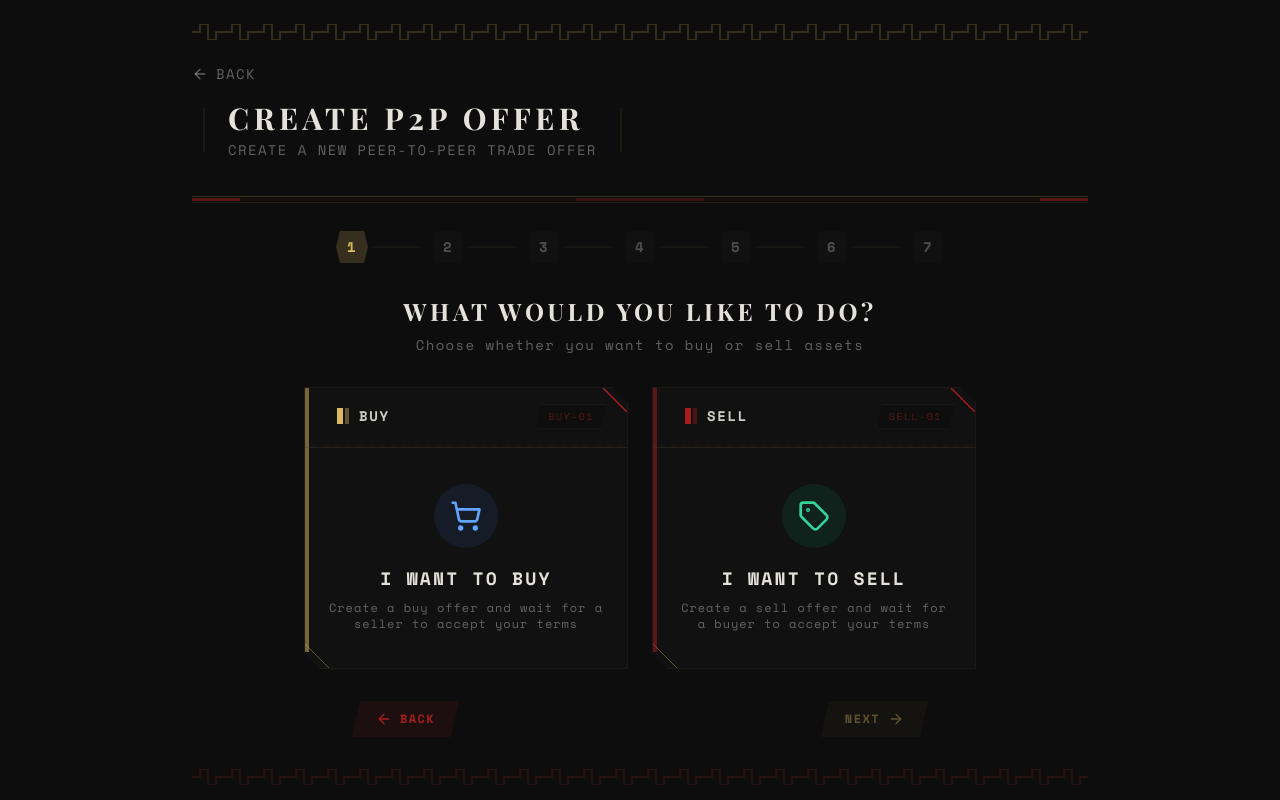
Test case: Create P2P Offer Page › step 2: buy flow - asset selection with attributes › should format snake_case attribute names to Title Case
Click the heading "I want to Buy" at (466, 578), box [380,565,552,591]
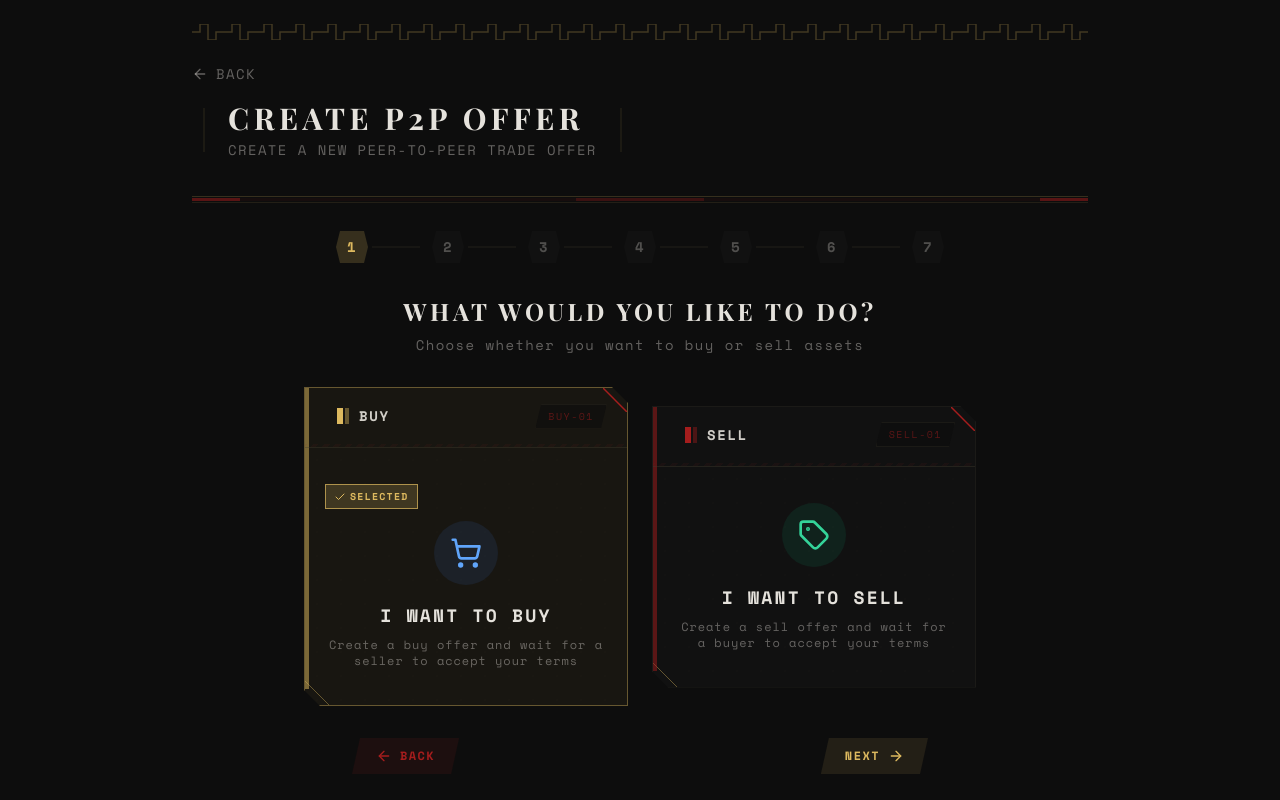
Click the button "Next" at (874, 756), box [821,738,928,774]
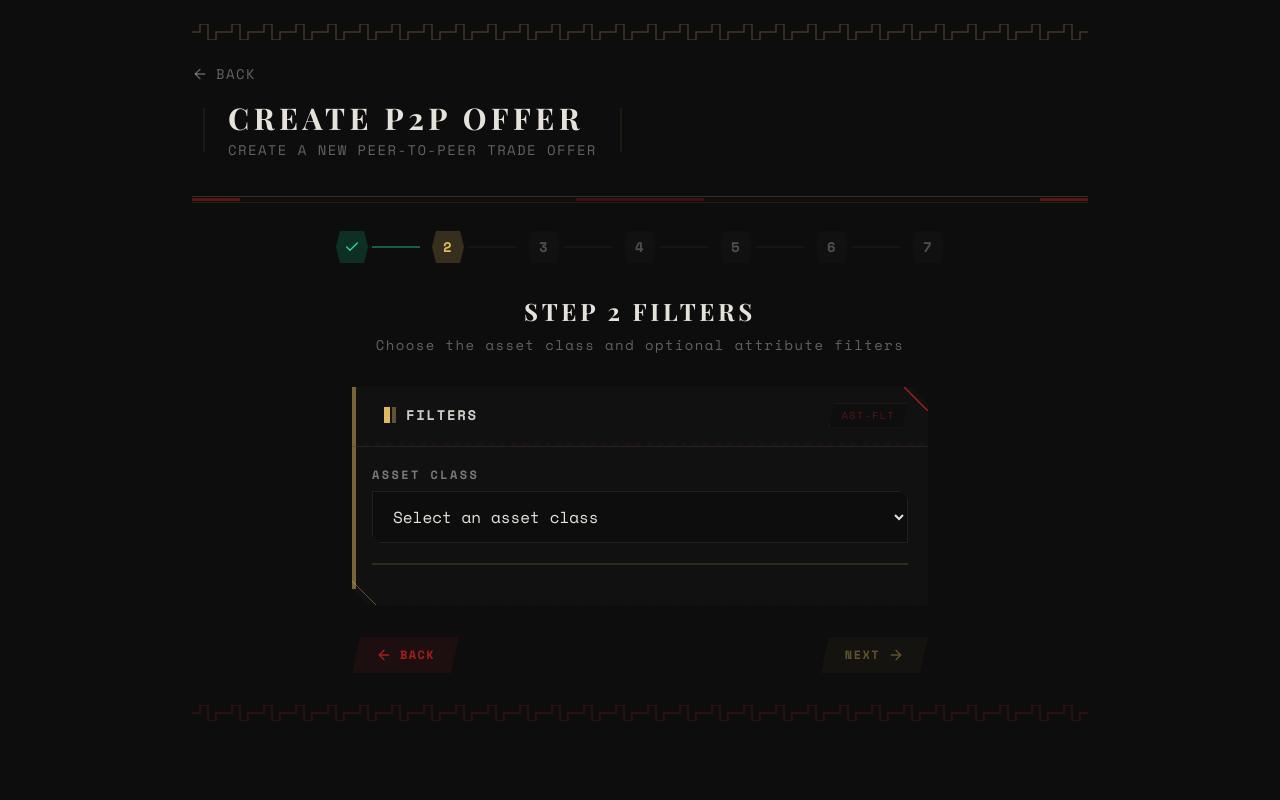
expect the text "Asset Class" is shown: met, box [372,466,479,483]
Select "GOAT" in the dropdown at (640, 517), box [372,491,908,543]
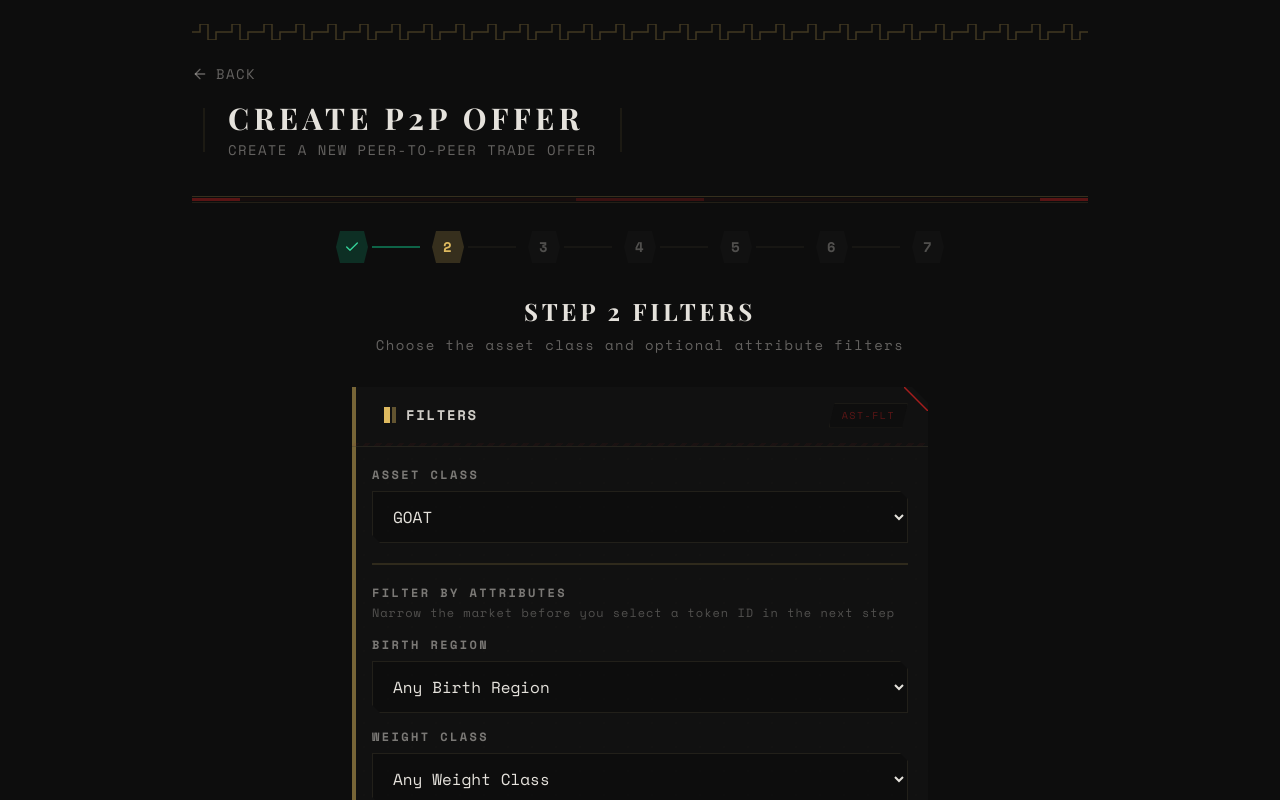
expect the text "Weight Class" is shown: met, box [372,728,489,745]
expect the text "Birth Region" is shown: met, box [372,636,489,653]
